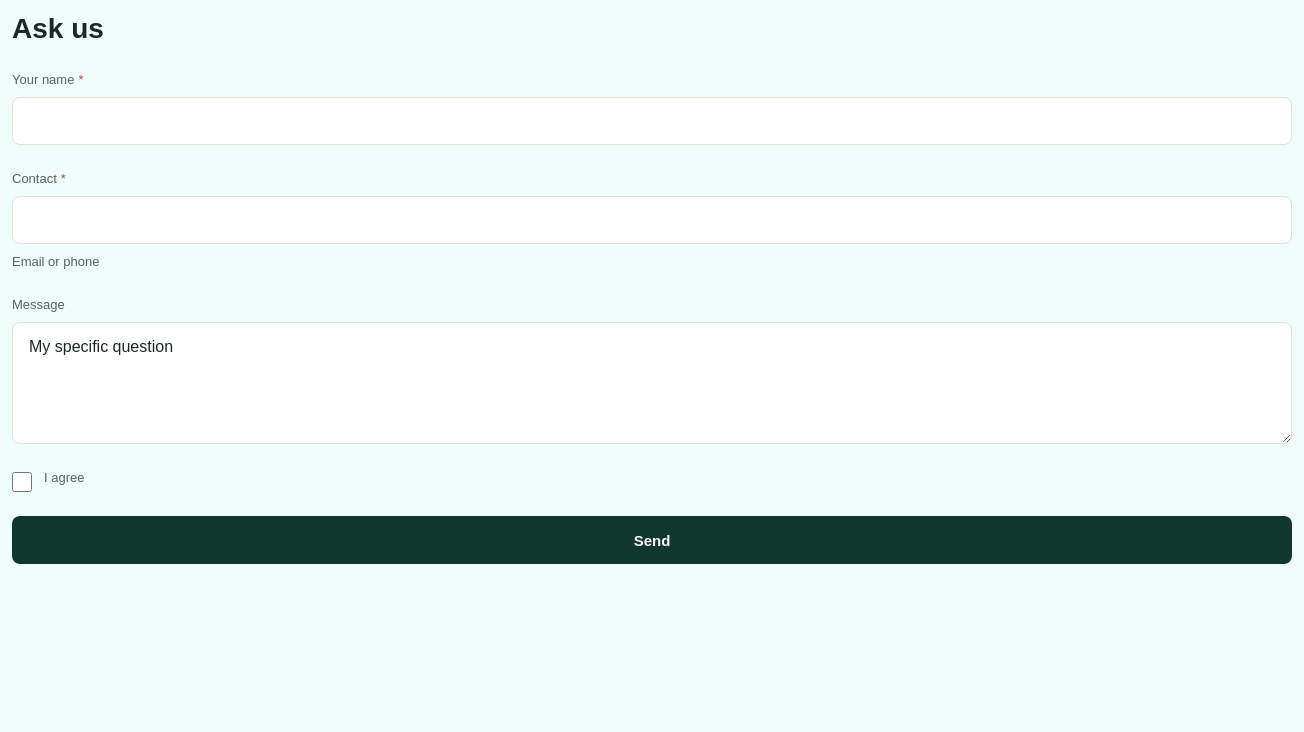
Test: public inquiry completion states › preserves authored fields after a rejected response and never shows false success
The image size is (1304, 732).
Type "Guest Example" into the field labelled "Your name*" at (652, 121), box [12,97,1292,145]
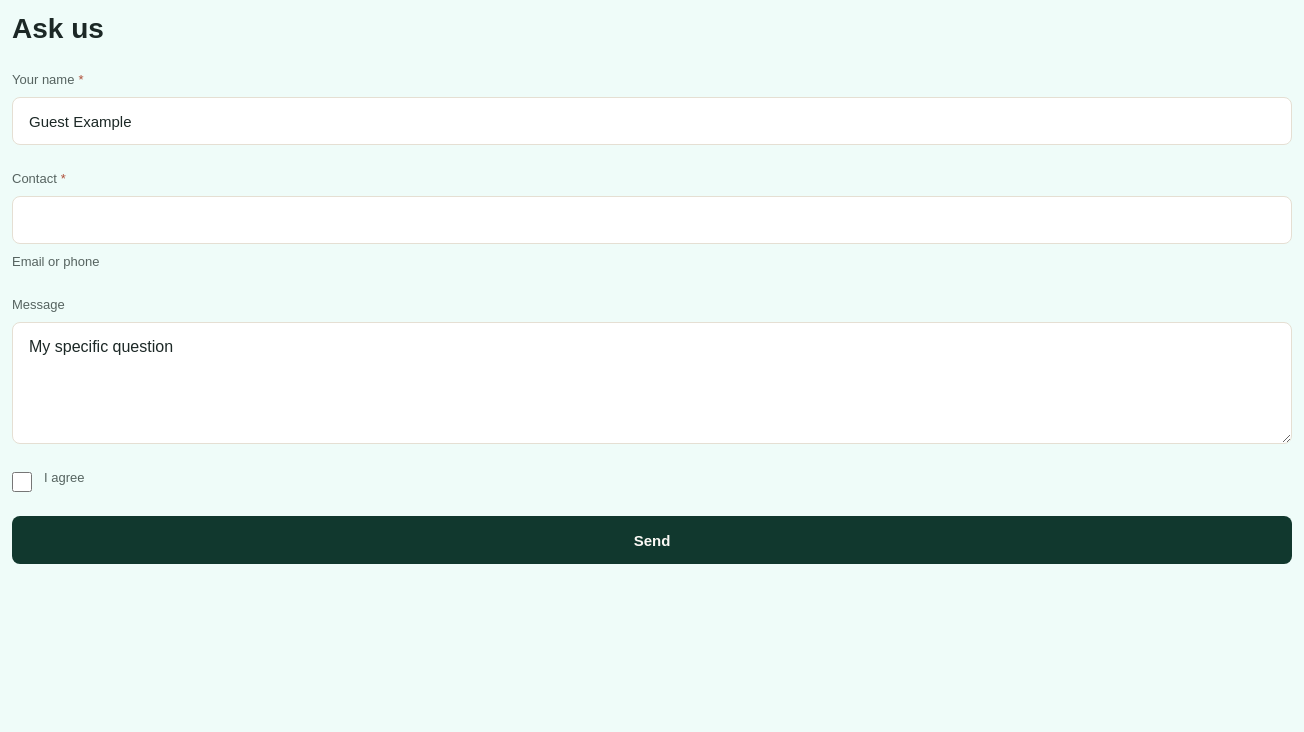
Type "guest@example.test" into the field labelled "Contact*" at (652, 220), box [12,196,1292,244]
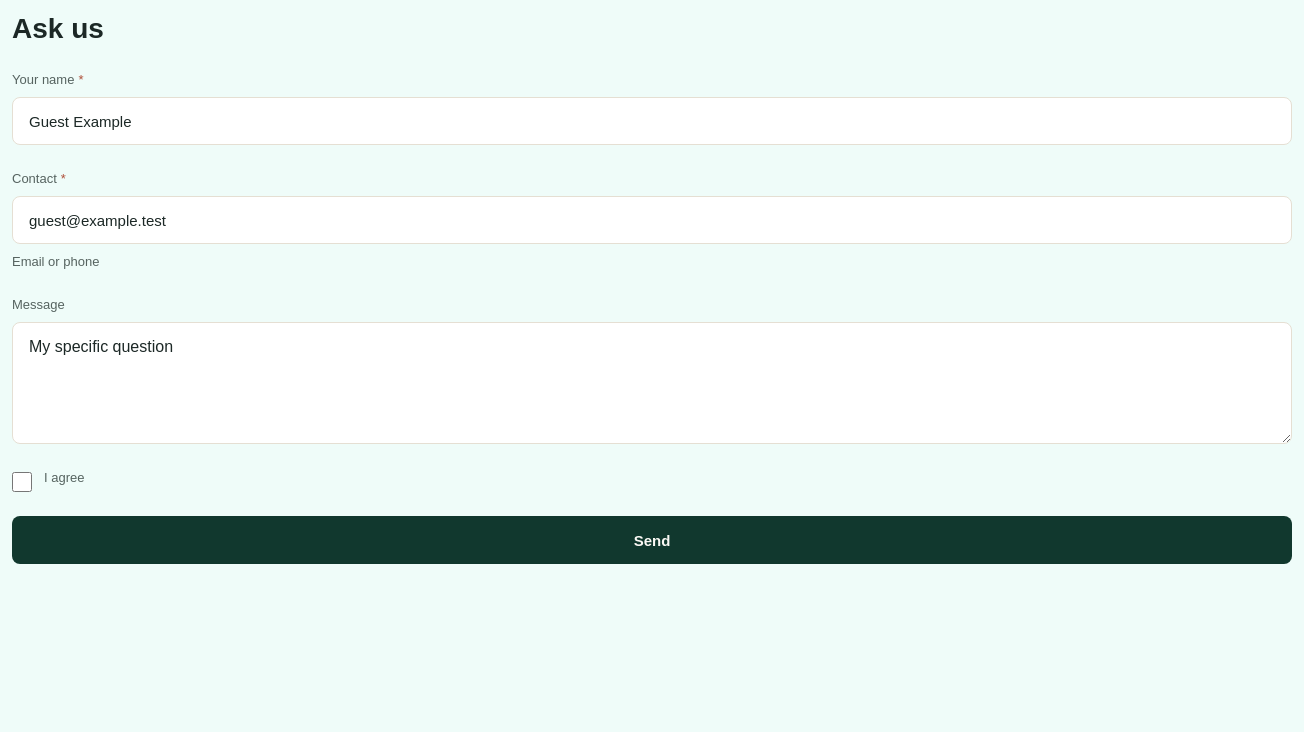
Click the checkbox labelled "I agree" at (22, 482), box [12,472,32,492]
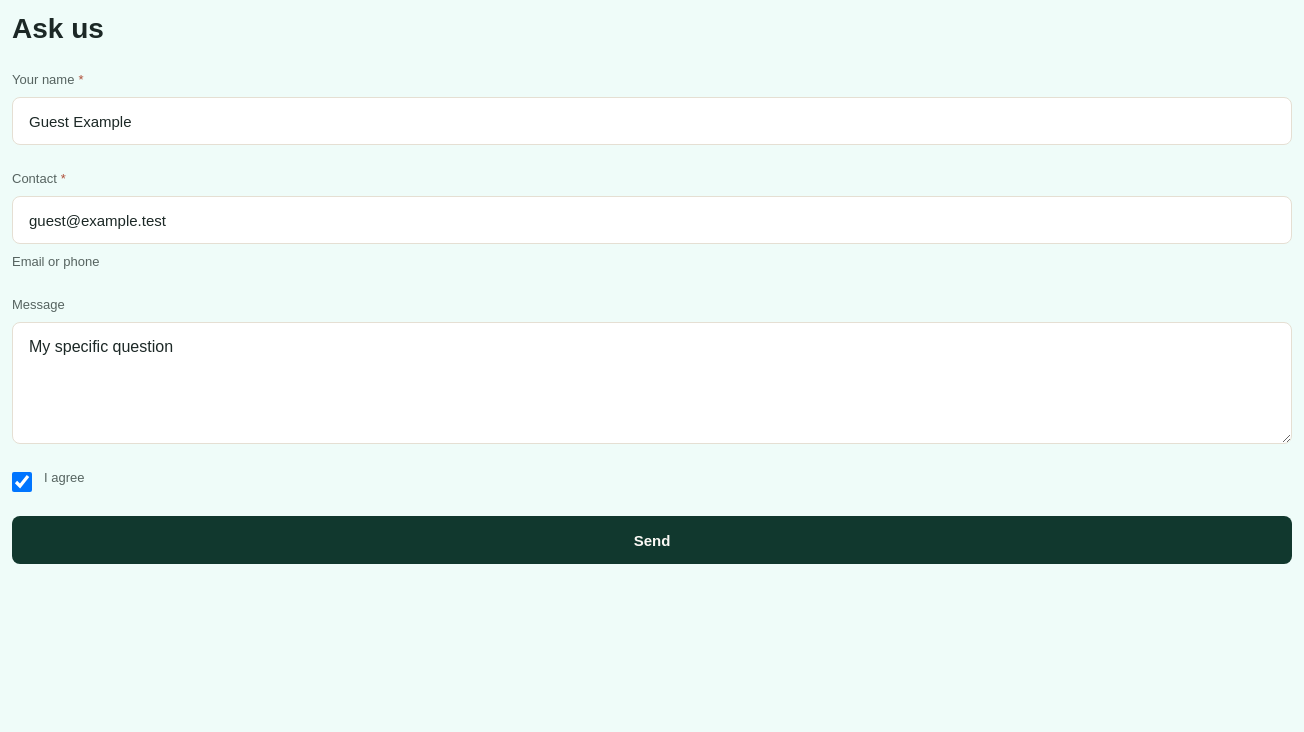
Click the button "Send" at (652, 540), box [12,516,1292,564]
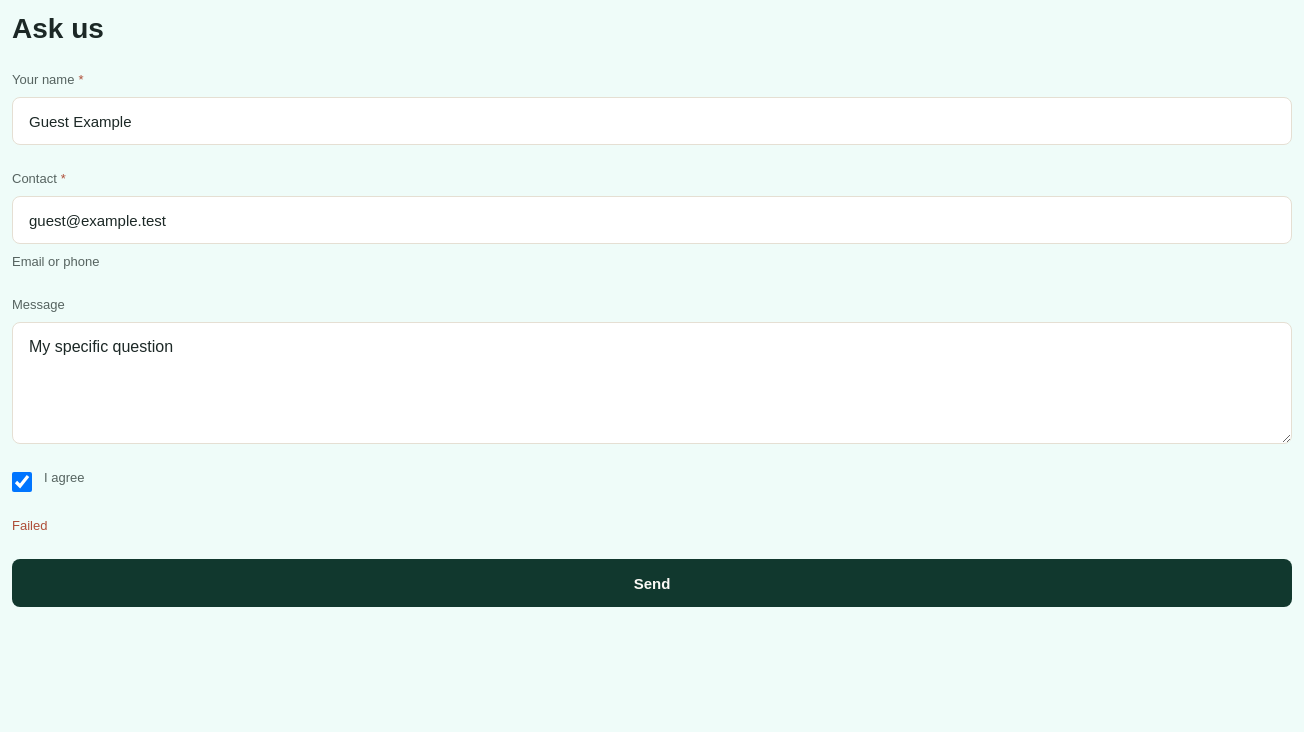
Check: the text box labelled "Message" holds "My specific question", box [12,322,1292,444]
Check: the message reads "Failed", box [12,518,47,533]
